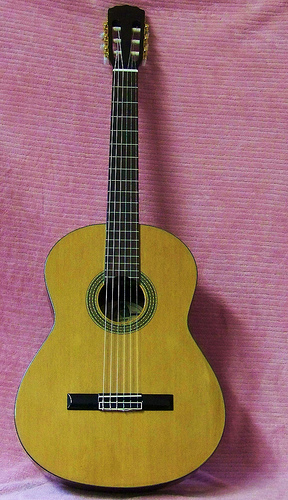guitar: (8, 4, 226, 492)
